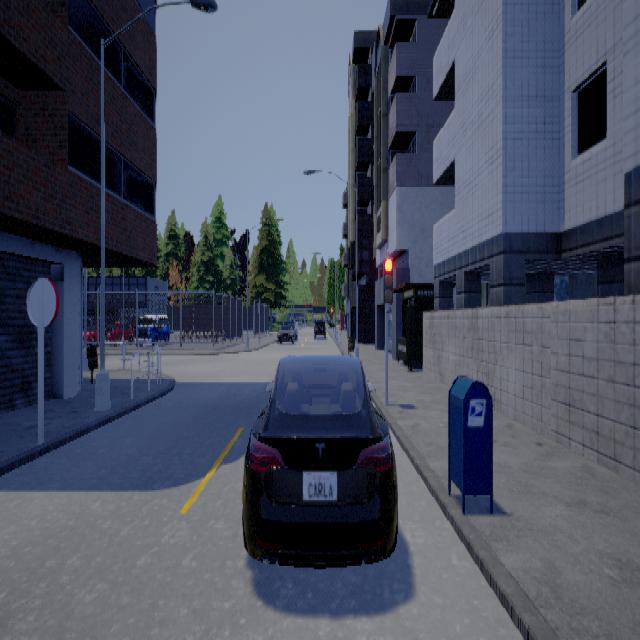red_light: (382, 248, 392, 312)
traffic_sign: (25, 276, 56, 324)
vehicle: (241, 353, 397, 568), (137, 313, 171, 340), (277, 316, 296, 338), (313, 315, 325, 340)
